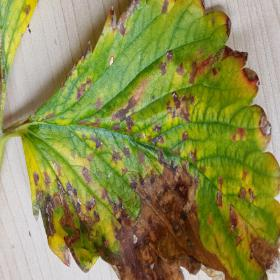Angular Leafspot: (16, 0, 279, 279)
